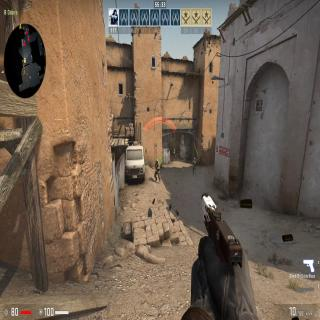CT-Body: (154, 159, 160, 179), (192, 157, 198, 173), (172, 146, 176, 160)
CT-Head: (156, 159, 160, 164), (194, 158, 196, 162), (173, 148, 174, 150)
